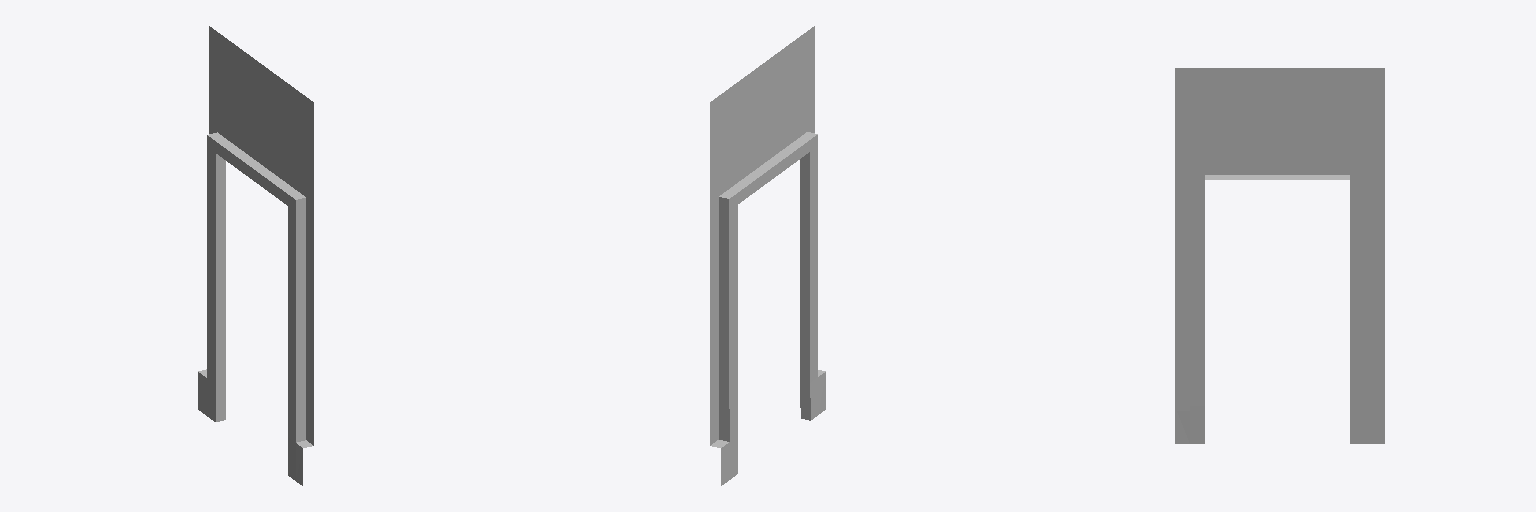
Rendered from tile_house_wall_door.obj.
The picture shows the model from 3 angles: view 1: azimuth 30°, elevation 25°; view 2: azimuth 150°, elevation 25°; view 3: azimuth 270°, elevation 25°; orthographic projection.
Visible parts, largest first — view 1: house_wall_door; view 2: house_wall_door; view 3: house_wall_door.
Boxes of the visible parts, x1=… form: house_wall_door: x1=198, y1=26, x2=313, y2=485; house_wall_door: x1=710, y1=26, x2=825, y2=485; house_wall_door: x1=1175, y1=68, x2=1384, y2=443.
Bounding box in the file's own units: 0.1185 × 4 × 2.